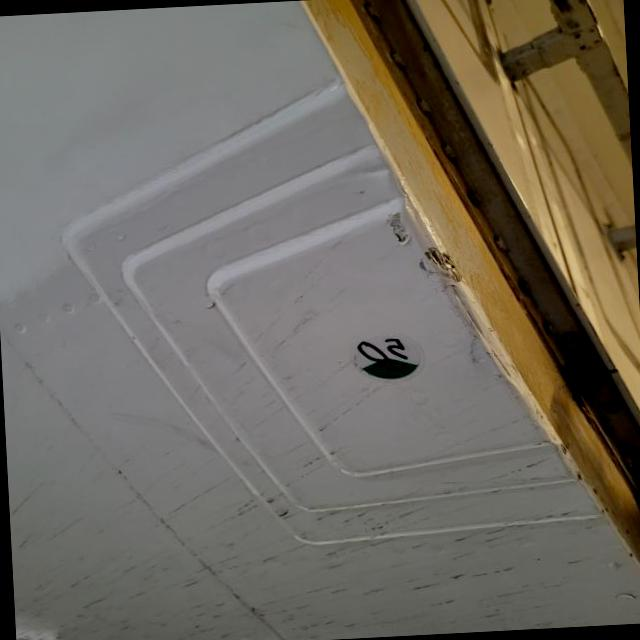dent: (398, 242, 481, 297), (381, 204, 419, 247)
